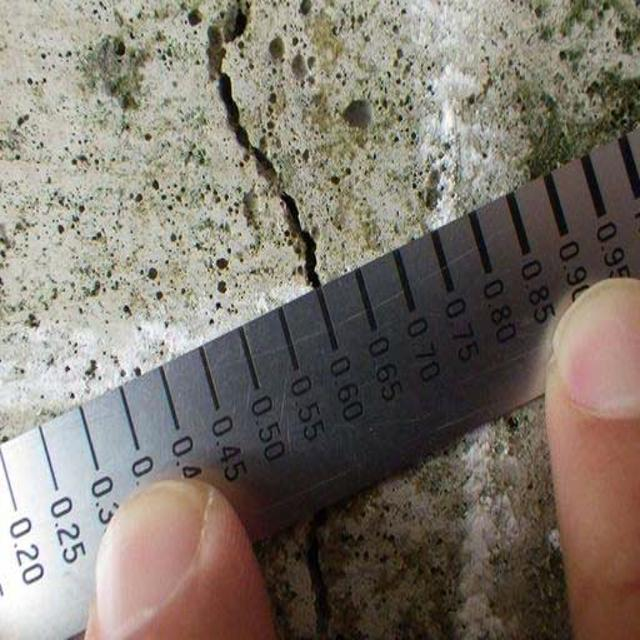crack: (194, 10, 333, 280)
